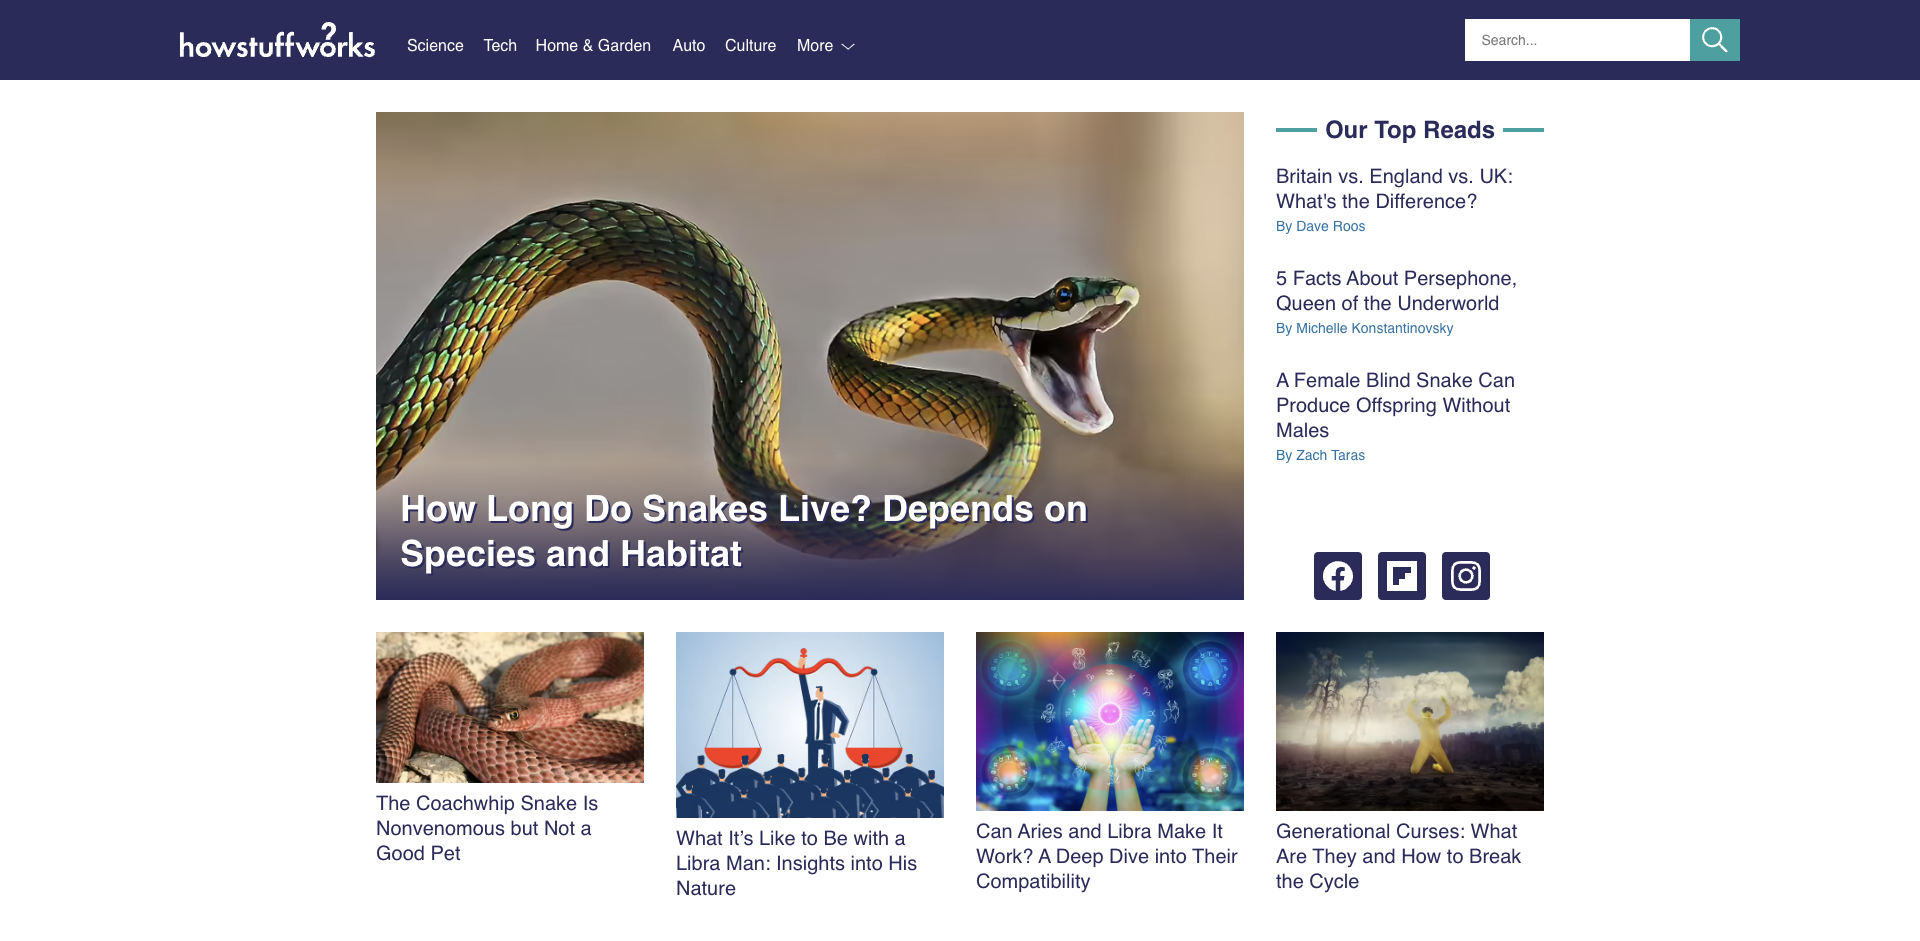button: (1691, 20, 1740, 61), (797, 34, 860, 58)
input: (1466, 20, 1691, 61)
link: (376, 111, 1244, 600), (676, 632, 944, 902), (976, 632, 1244, 893), (1276, 632, 1544, 893), (376, 632, 644, 866), (1276, 368, 1544, 463), (1276, 164, 1544, 234), (1276, 266, 1544, 336), (180, 22, 375, 58), (535, 34, 672, 58), (407, 34, 484, 58), (725, 34, 797, 58), (672, 34, 725, 58), (484, 34, 535, 58), (1322, 561, 1353, 591), (1387, 561, 1417, 591), (1451, 561, 1480, 591)
